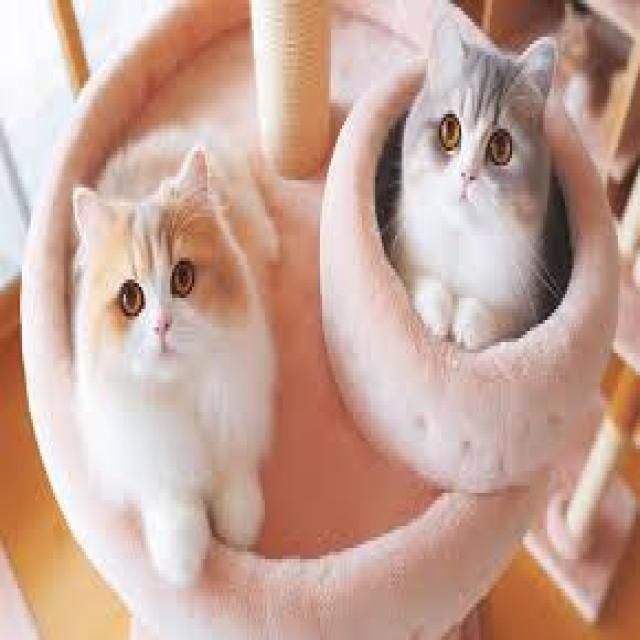cat: (63, 145, 278, 588), (392, 13, 558, 349)
